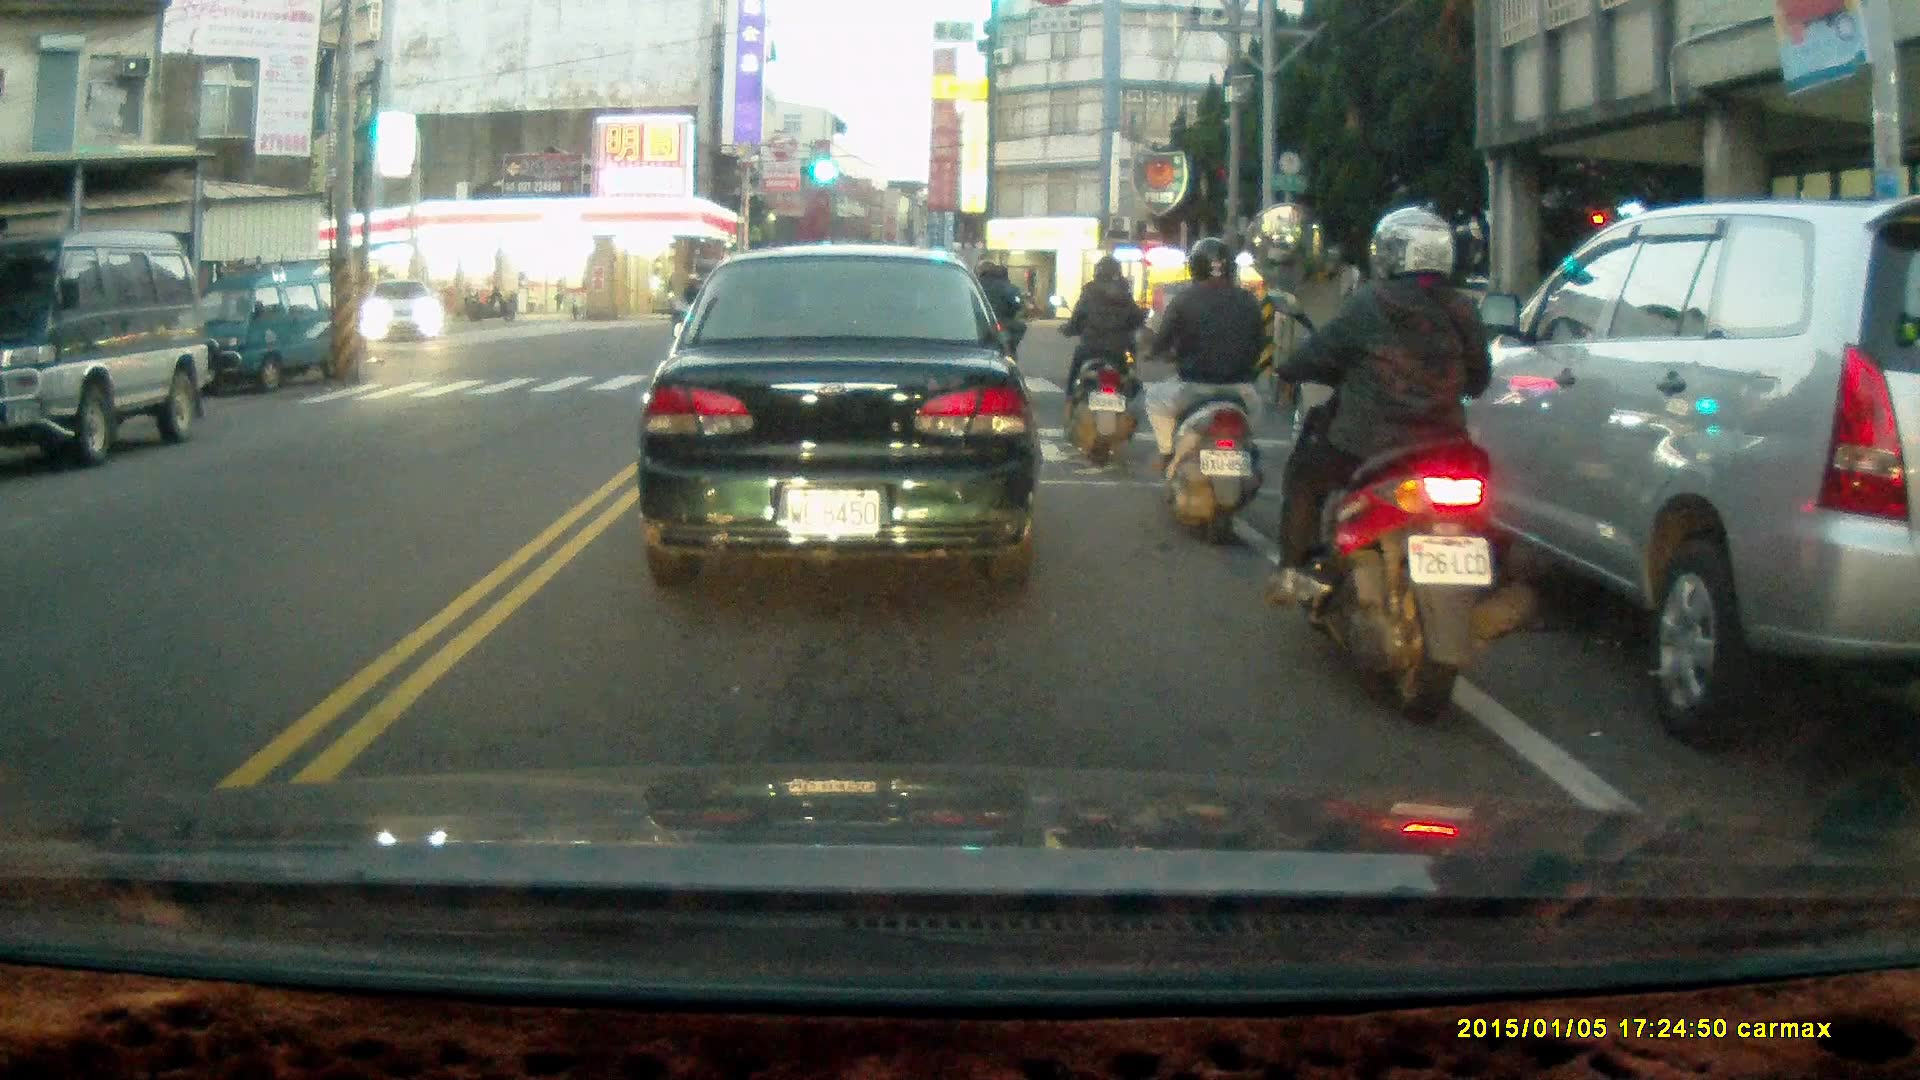rider: (1267, 205, 1525, 723), (1119, 235, 1270, 538), (1046, 248, 1143, 460), (964, 261, 1021, 384), (669, 273, 718, 318)
vehicle: (1406, 195, 1920, 752), (637, 241, 1042, 593), (1, 234, 212, 458), (177, 262, 358, 400), (367, 278, 448, 345)
